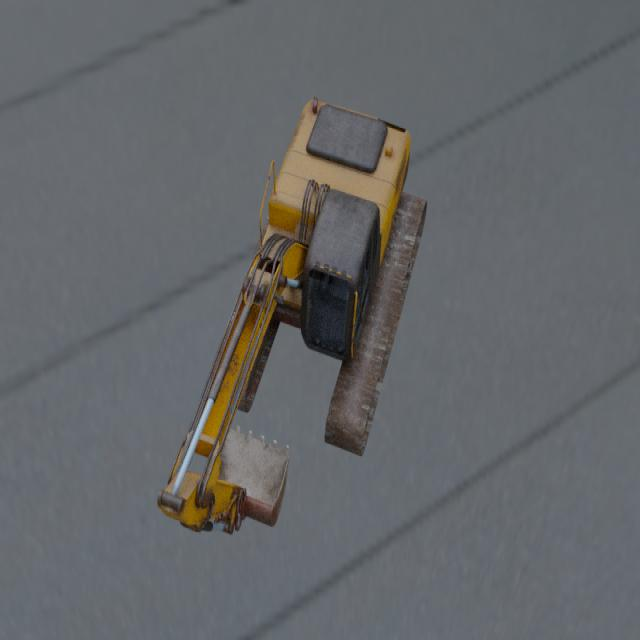excavator: (156, 96, 427, 535)
